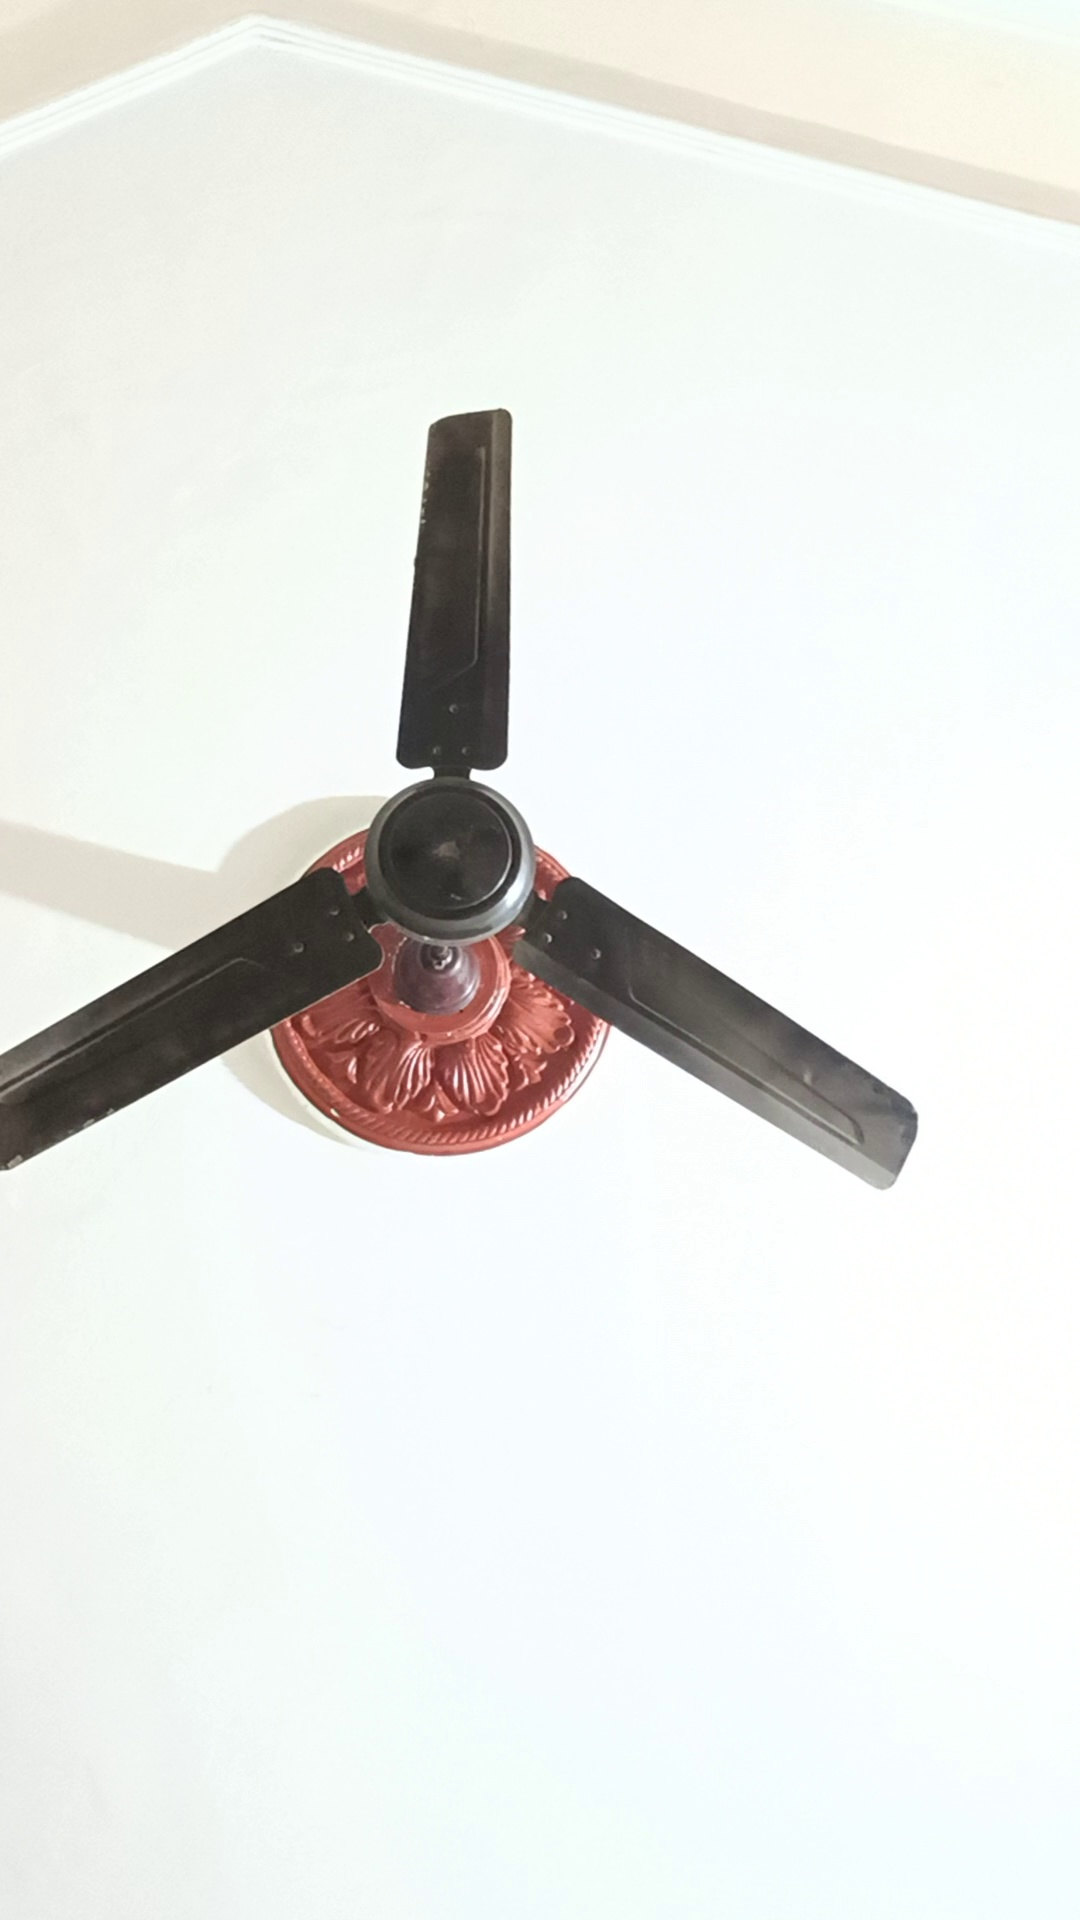fan: (160, 682, 753, 1178)
